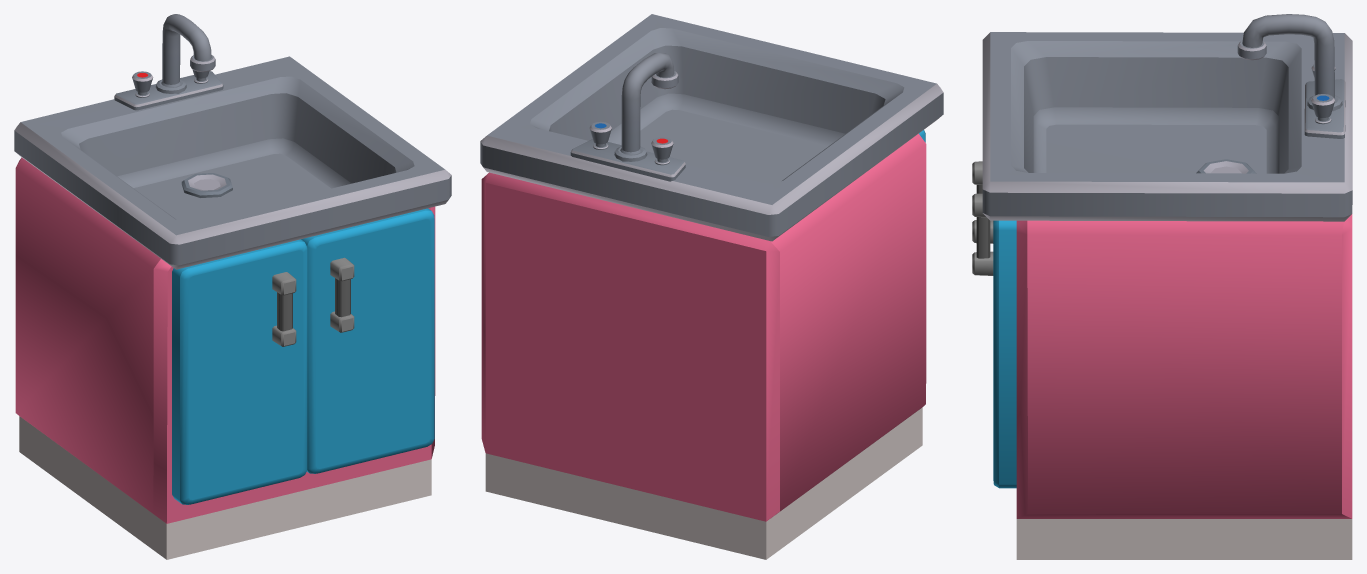
Rendered from Sink_A.glb.
3 renders of one model, left to right at view 1: azimuth 30°, elevation 25°; view 2: azimuth 150°, elevation 25°; view 3: azimuth 270°, elevation 25°, orthographic. The views are drawn at different scales.
Parts seen in each view (by area): view 1: Sink_A, Sink_A_AL, Sink_A_A; view 2: Sink_A; view 3: Sink_A, Sink_A_A, Sink_A_AL.
Part boxes in pixels (x1,y1,x2,y2): Sink_A: (14, 14, 451, 559); Sink_A_AL: (172, 239, 307, 504); Sink_A_A: (301, 208, 434, 473); Sink_A: (480, 14, 943, 559); Sink_A: (982, 14, 1352, 559); Sink_A_A: (972, 193, 1016, 488); Sink_A_AL: (972, 161, 993, 243).
Size of the model in its own units: 0.9 by 1.28 by 0.9244.
Materials: 2 (2 with a texture image).
